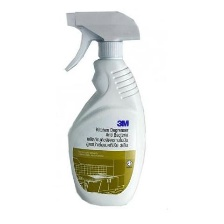cleaning_solution: (60, 6, 149, 210)
